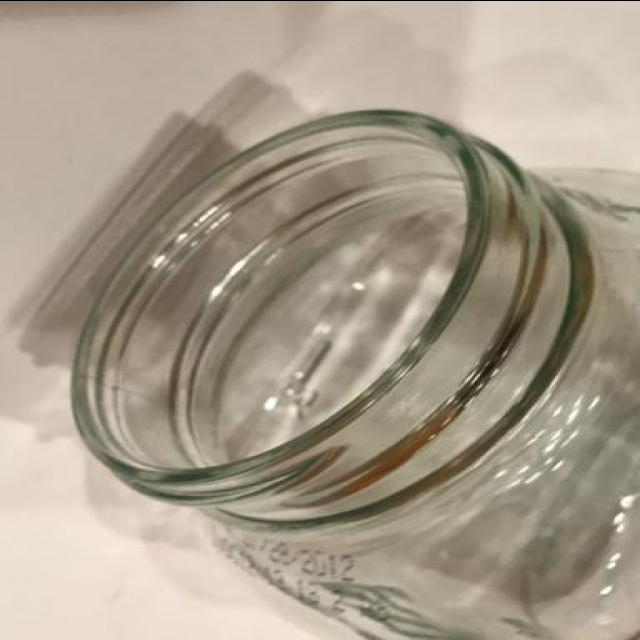litter: (66, 104, 636, 640)
